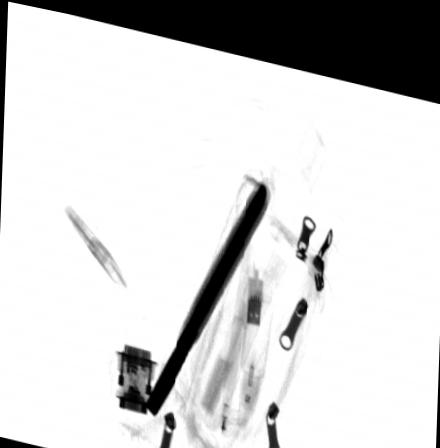Pliers: (144, 169, 271, 411)
